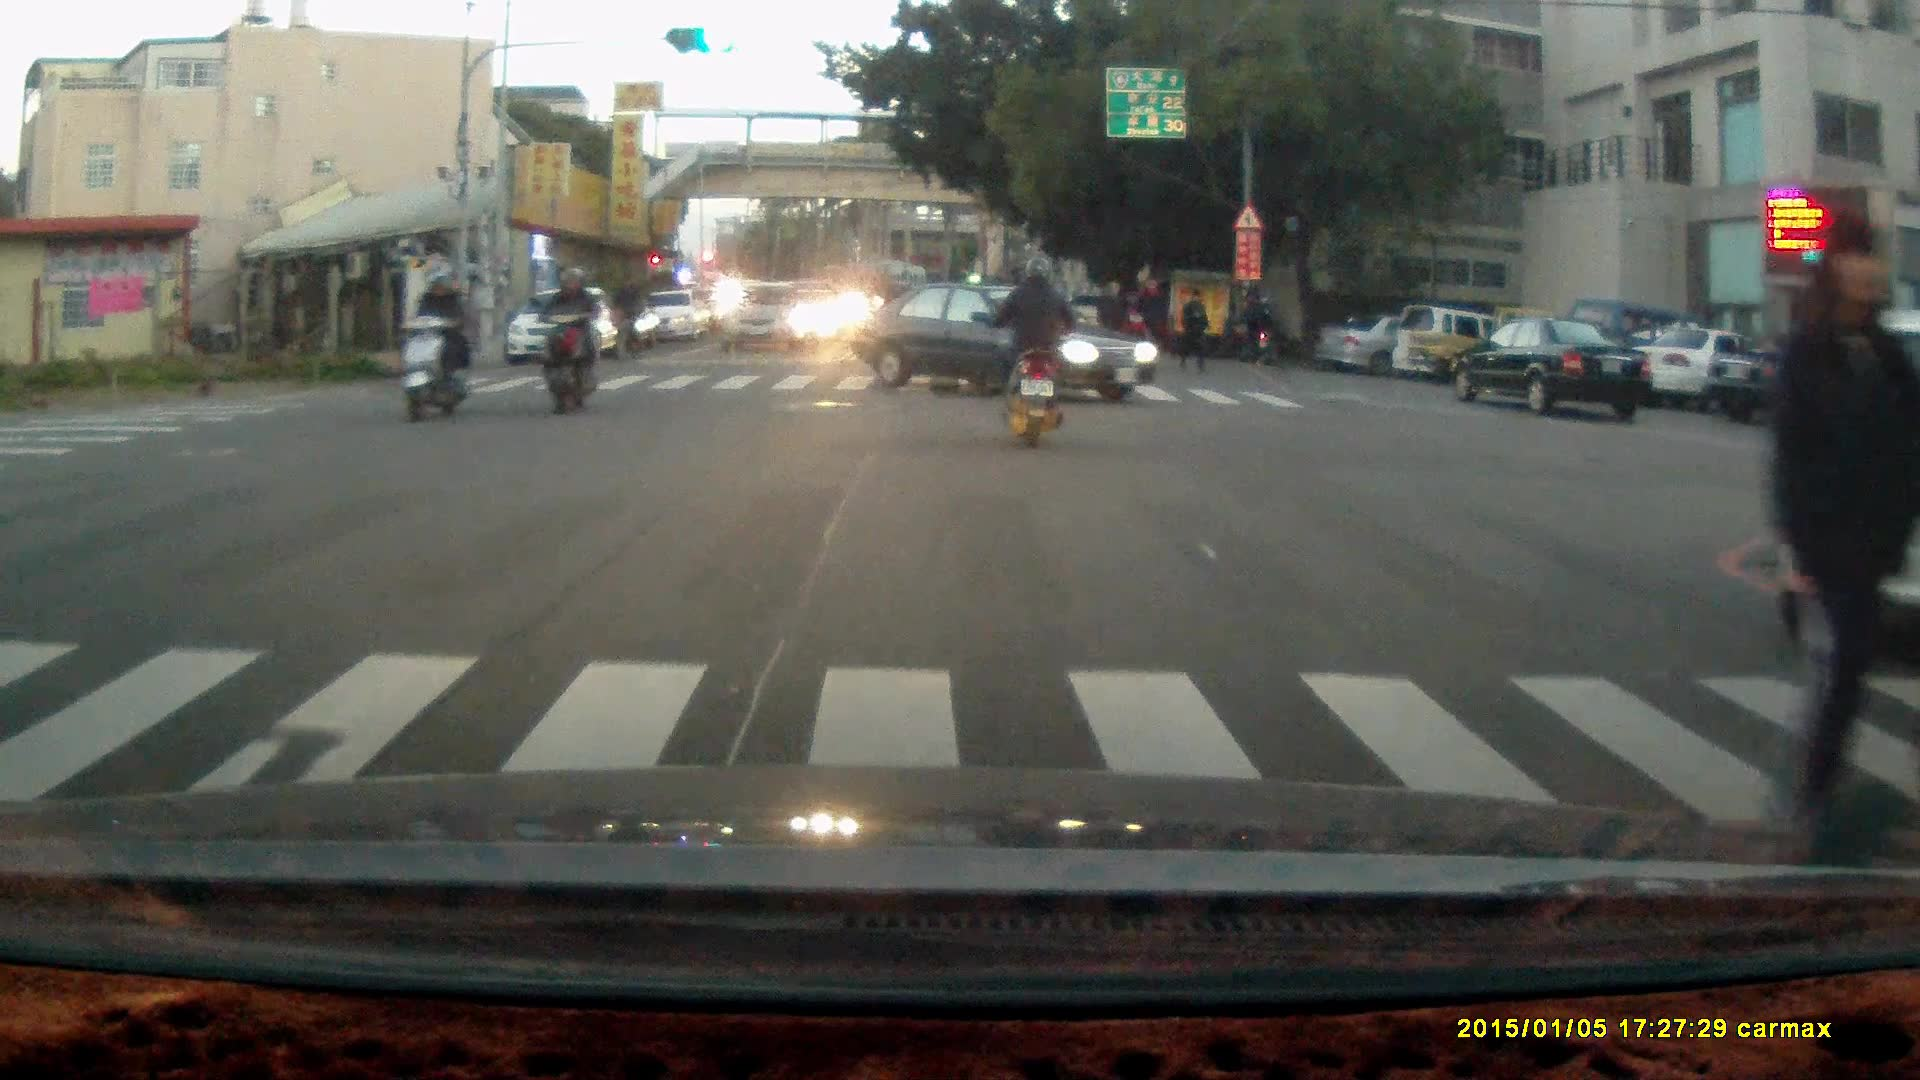pedestrian: (1748, 212, 1909, 838), (1177, 284, 1210, 377), (1131, 271, 1166, 360), (1098, 279, 1128, 361), (1239, 288, 1270, 365)
rider: (991, 254, 1077, 447), (399, 264, 472, 424), (530, 264, 601, 417), (611, 267, 650, 365)
vehicle: (845, 274, 1158, 405), (1458, 316, 1659, 417), (1620, 322, 1807, 412), (1314, 311, 1494, 372), (508, 287, 627, 367), (722, 280, 818, 359)
